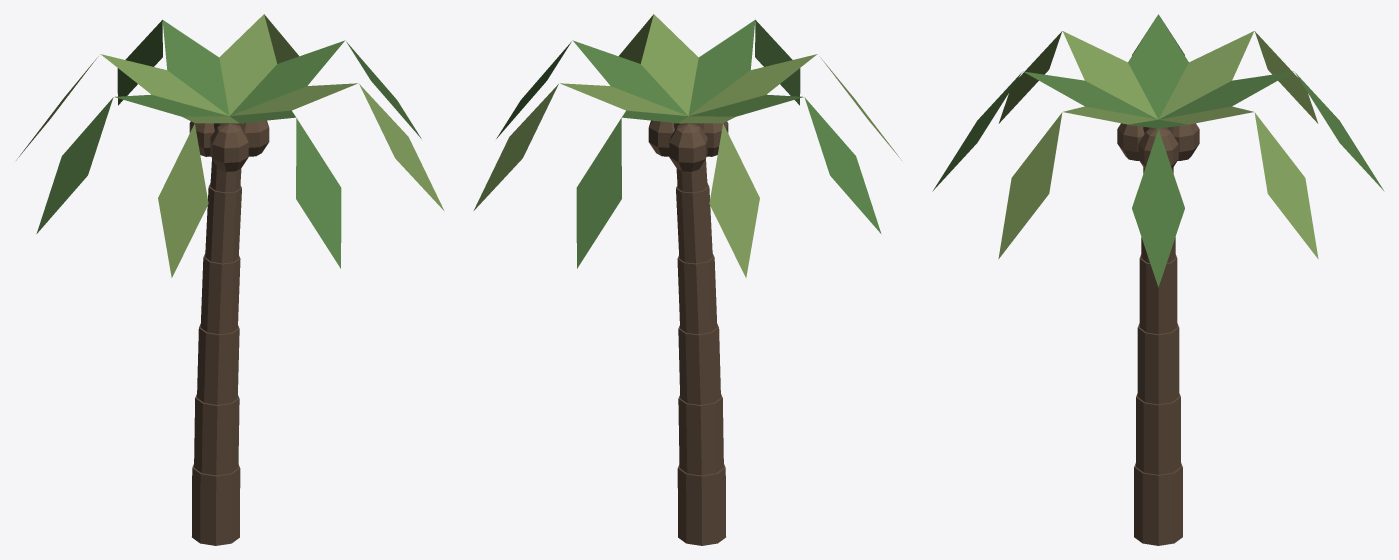
The model's file is nature-coconut-palm.lod0.glb.
The picture shows the model from 3 angles, left to right: view 1: azimuth 30°, elevation 25°; view 2: azimuth 150°, elevation 25°; view 3: azimuth 270°, elevation 25°; orthographic projection.
Parts seen in each view (by area): view 1: nature-coconut-palm__body; view 2: nature-coconut-palm__body; view 3: nature-coconut-palm__body.
Part boxes in pixels (bbox=[...]): nature-coconut-palm__body: bbox=[16, 14, 444, 545]; nature-coconut-palm__body: bbox=[473, 14, 901, 545]; nature-coconut-palm__body: bbox=[932, 14, 1384, 545].
Size of the model in its own units: 3.4 by 3.9 by 3.4.
